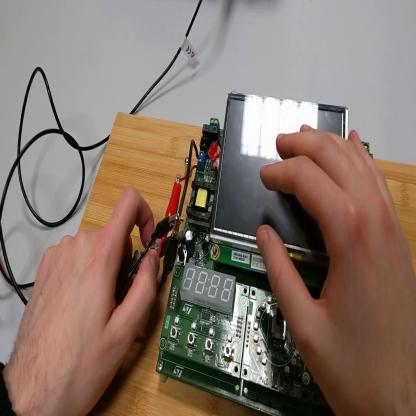hand: (257, 122, 416, 415), (4, 181, 160, 415)
low voltage board: (157, 92, 370, 416)
working area: (80, 110, 416, 414)
